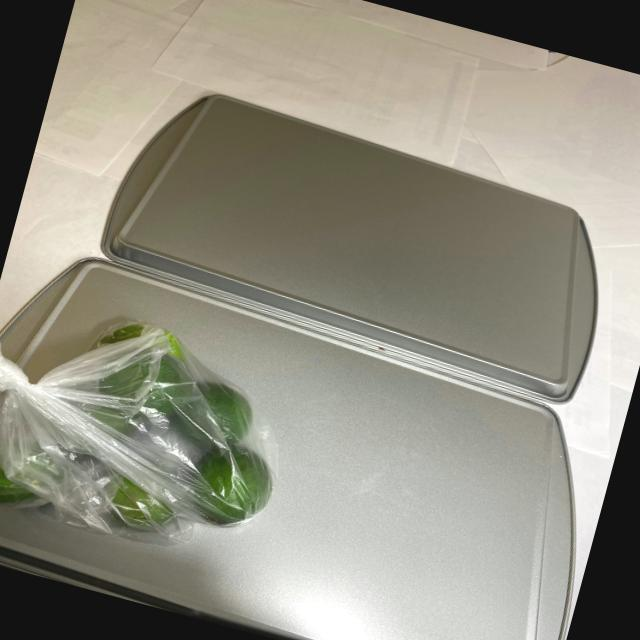lemon: (0, 284, 304, 580)
